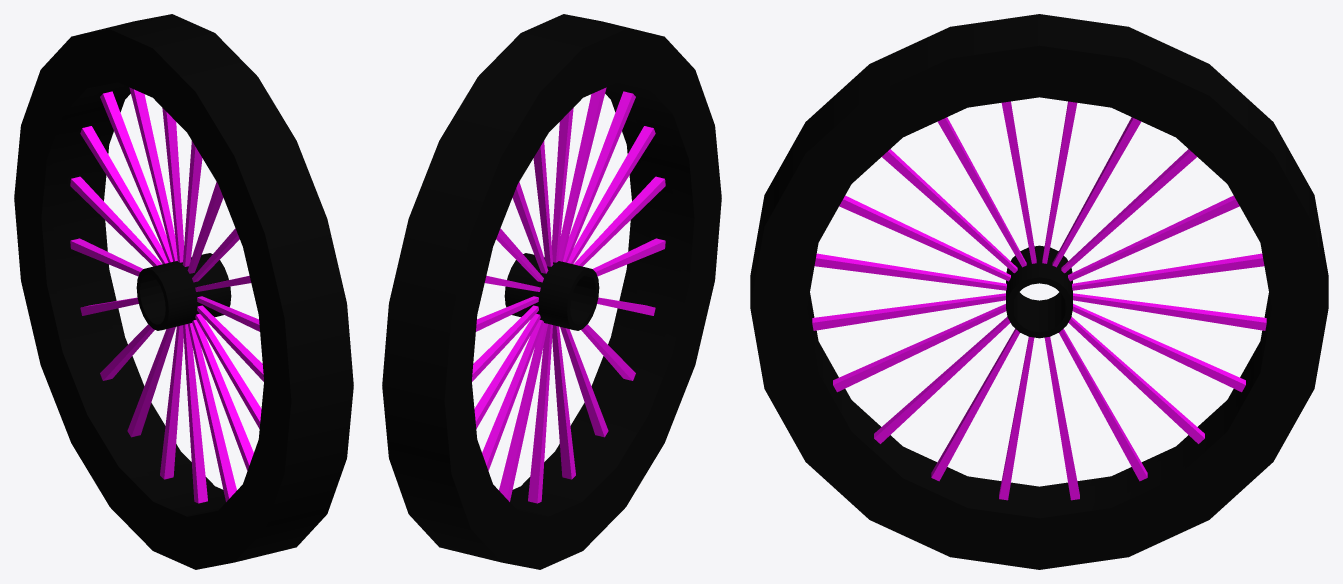
File: roue_velo.fbx
3 renders of one model, left to right at view 1: azimuth 30°, elevation 25°; view 2: azimuth 150°, elevation 25°; view 3: azimuth 270°, elevation 25°, orthographic. The views are drawn at different scales.
Parts seen in each view (by area): view 1: roue; view 2: roue; view 3: roue.
Boxes of the visible parts, left/top/right/bottom form: roue: left=14, top=14, right=353, bottom=569; roue: left=382, top=14, right=721, bottom=569; roue: left=750, top=14, right=1328, bottom=569.
Bounding box in the file's own units: 0.2598 × 2 × 2.
